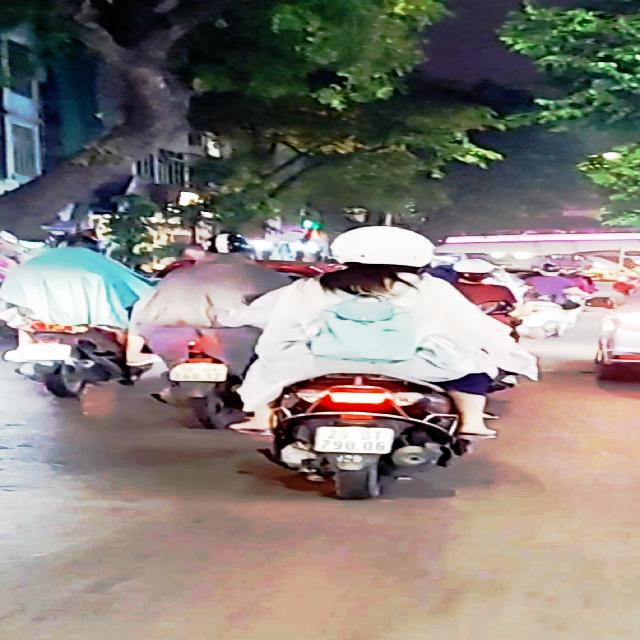license_plate: (316, 427, 396, 455)
